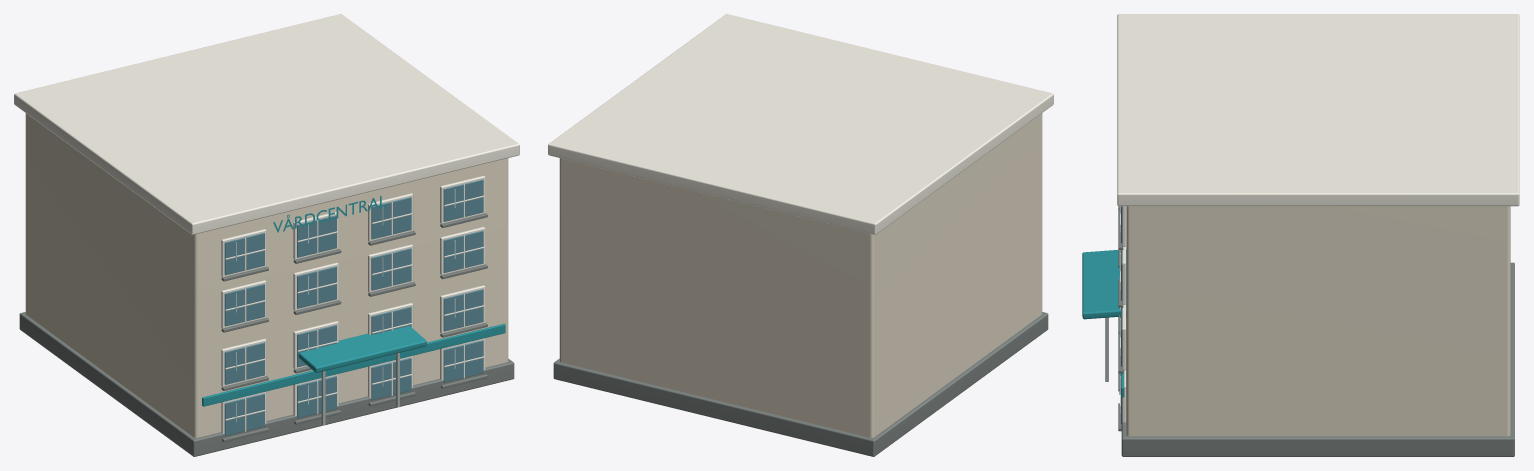
The model's file is vardcentral.glb.
The picture shows the model from 3 angles, left to right: view 1: azimuth 30°, elevation 25°; view 2: azimuth 150°, elevation 25°; view 3: azimuth 270°, elevation 25°; orthographic projection. The views are drawn at different scales.
Visible parts, largest first — view 1: Clinic facade, Flat roof parapet, Foundation, Entrance canopy, Clinic teal band, Insulated glazing.017, Insulated glazing.021, Insulated glazing.009, Insulated glazing.013, Insulated glazing.016, Insulated glazing.020, Insulated glazing.014 (+14 smaller); view 2: Clinic facade, Flat roof parapet, Foundation; view 3: Clinic facade, Flat roof parapet, Foundation, Entrance canopy.
Boxes of the visible parts, x1,y1,x2,y2 form: Clinic facade: [25, 113, 508, 437]; Flat roof parapet: [14, 14, 519, 234]; Foundation: [19, 312, 514, 456]; Entrance canopy: [298, 326, 426, 372]; Clinic teal band: [202, 323, 505, 406]; Insulated glazing.017: [443, 230, 483, 272]; Insulated glazing.021: [443, 179, 483, 221]; Insulated glazing.009: [443, 340, 483, 382]; Insulated glazing.013: [443, 289, 483, 331]; Insulated glazing.016: [371, 248, 411, 290]; Insulated glazing.020: [371, 197, 411, 239]; Insulated glazing.014: [224, 284, 264, 326]; Clinic facade: [559, 113, 1042, 437]; Flat roof parapet: [548, 14, 1053, 234]; Foundation: [553, 312, 1048, 456]; Clinic facade: [1126, 206, 1510, 436]; Flat roof parapet: [1117, 14, 1519, 206]; Foundation: [1121, 262, 1514, 456]; Entrance canopy: [1082, 249, 1126, 319].
Size of the model in its own units: 14.1 by 9.69 by 14.45.
